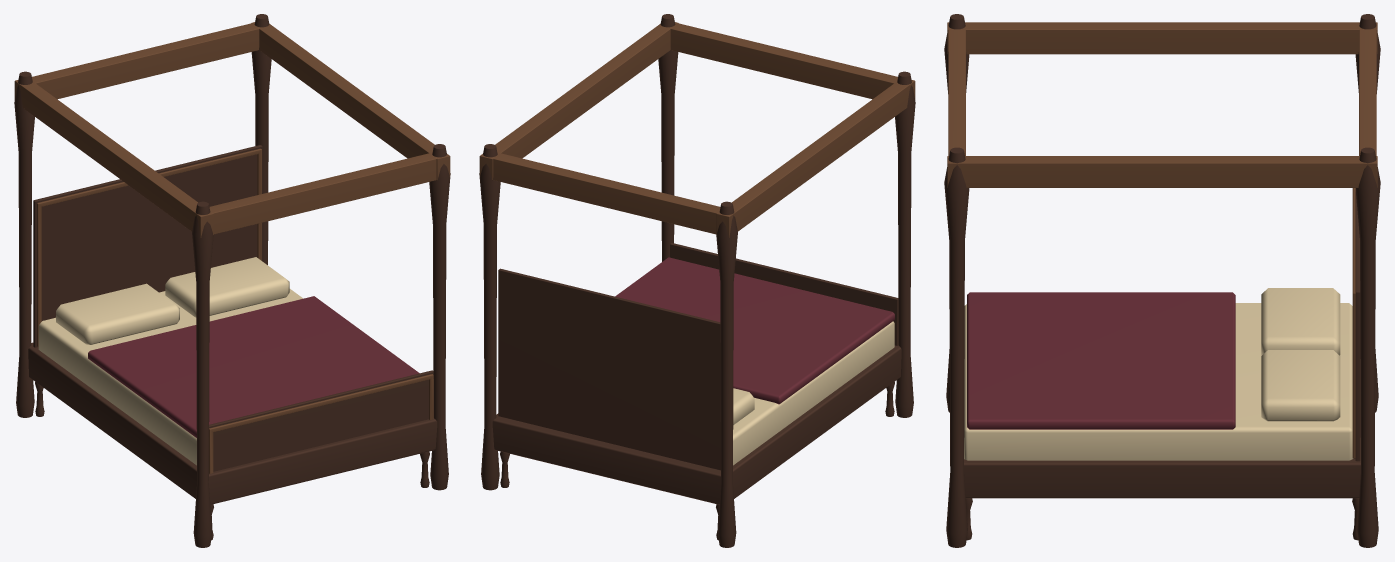
The model's file is rpg-mansion-canopy-bed-01.glb.
3 renders of one model, left to right at view 1: azimuth 30°, elevation 25°; view 2: azimuth 150°, elevation 25°; view 3: azimuth 270°, elevation 25°, orthographic. The views are drawn at different scales.
Visible parts, largest first — view 1: rpg-mansion-canopy-bed-01; view 2: rpg-mansion-canopy-bed-01; view 3: rpg-mansion-canopy-bed-01.
Part boxes in pixels (box(x1,y1,x2,y2)): rpg-mansion-canopy-bed-01: box(14, 14, 450, 547); rpg-mansion-canopy-bed-01: box(479, 14, 915, 547); rpg-mansion-canopy-bed-01: box(944, 14, 1380, 547).
Size of the model in its own units: 1.73 by 2.2 by 2.21.
